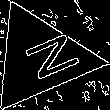N_SW: (5, 29, 75, 86)
